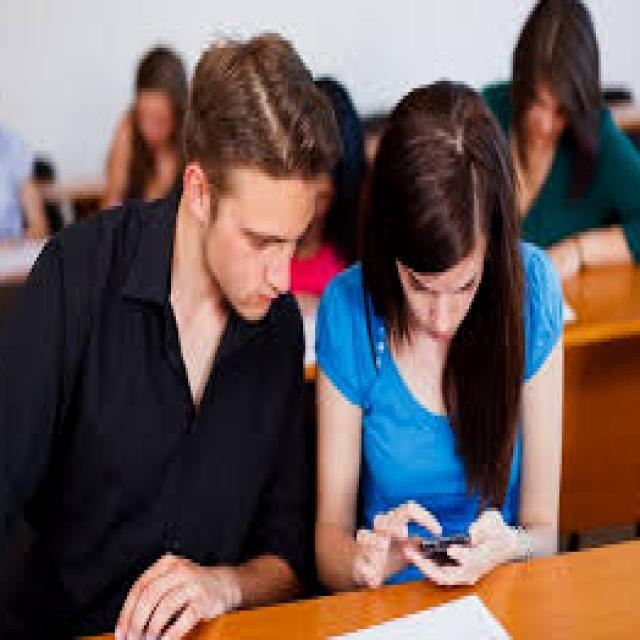cheating: (0, 20, 350, 640), (316, 79, 580, 606), (330, 469, 566, 600)
